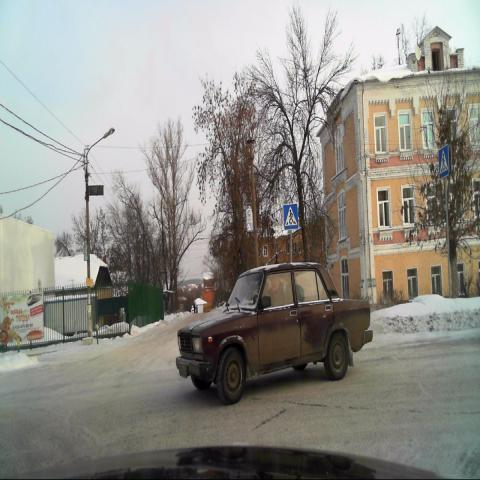5_19_1: (283, 204, 298, 229), (439, 144, 449, 180)
